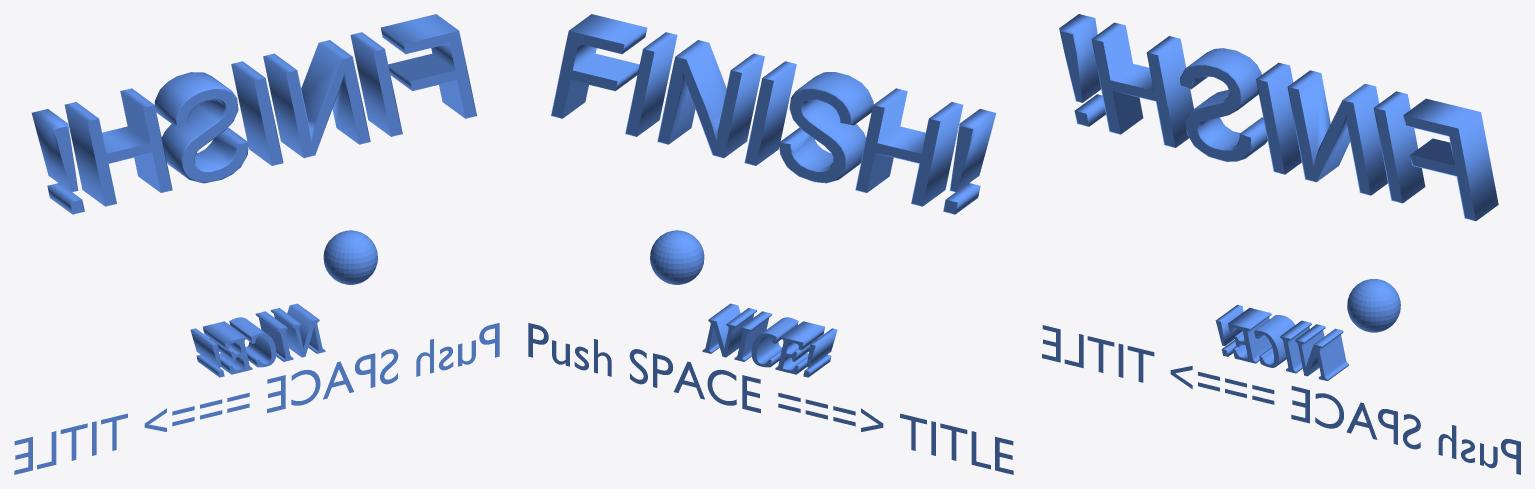
The model's file is Finish_nice.obj.
3 views of the same model, side by side, from view 1: azimuth 30°, elevation 25°; view 2: azimuth 150°, elevation 25°; view 3: azimuth 330°, elevation 25° (orthographic).
Visible parts, largest first — view 1: テキスト, テキスト.002, テキスト.001, 球.002; view 2: テキスト, テキスト.002, テキスト.001, 球.002; view 3: テキスト, テキスト.002, テキスト.001, 球.002.
Boxes of the visible parts, <box> form: テキスト: <box>31,14,476,214</box>; テキスト.002: <box>190,303,325,377</box>; テキスト.001: <box>14,323,499,474</box>; 球.002: <box>323,230,377,284</box>; テキスト: <box>551,14,996,214</box>; テキスト.002: <box>702,303,837,377</box>; テキスト.001: <box>528,323,1013,474</box>; 球.002: <box>650,230,704,284</box>; テキスト: <box>1059,14,1498,221</box>; テキスト.002: <box>1215,305,1348,380</box>; テキスト.001: <box>1042,325,1520,474</box>; 球.002: <box>1347,279,1400,332</box>.
Size of the model in its own units: 30.77 by 21.22 by 3.
Materials: 4 (4 with a texture image).
